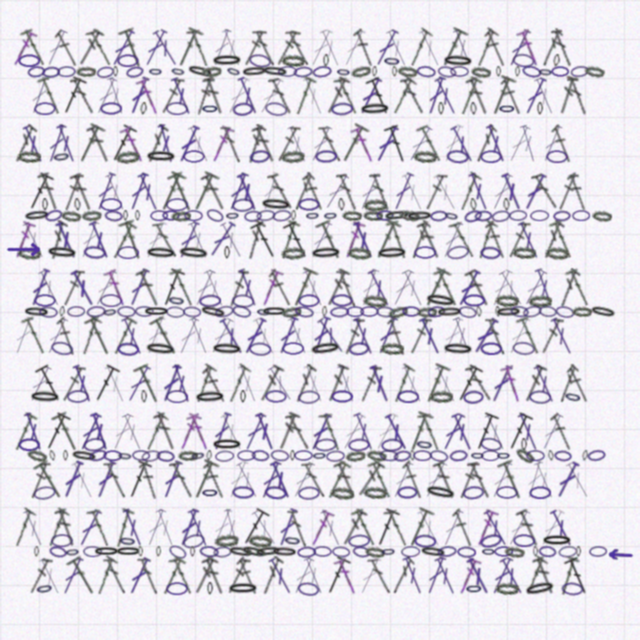chain: (523, 579, 557, 598), (424, 483, 457, 502), (424, 292, 457, 309), (309, 340, 342, 357), (177, 245, 210, 261), (144, 341, 177, 357), (260, 197, 292, 212), (46, 245, 78, 260), (186, 63, 214, 80), (442, 54, 474, 68), (359, 102, 391, 116), (145, 246, 177, 260), (310, 246, 342, 260), (376, 246, 408, 260), (199, 304, 227, 320), (589, 304, 617, 320), (211, 342, 243, 356), (442, 342, 474, 356), (29, 390, 61, 404), (194, 390, 226, 404), (240, 544, 268, 560), (182, 532, 206, 550), (479, 532, 503, 550), (514, 446, 536, 465), (211, 54, 243, 67), (145, 150, 177, 163), (211, 438, 243, 451), (541, 534, 573, 547), (227, 582, 259, 595), (446, 244, 470, 261), (50, 340, 74, 357), (479, 436, 503, 453), (115, 149, 140, 165), (70, 449, 98, 463), (227, 545, 255, 559), (419, 545, 447, 559), (248, 53, 272, 69), (264, 101, 288, 117), (167, 543, 188, 561), (280, 149, 305, 164), (214, 533, 239, 548), (33, 485, 56, 501), (297, 581, 320, 597), (261, 65, 289, 78), (23, 209, 51, 222), (383, 209, 411, 222), (254, 545, 282, 558), (387, 304, 409, 320), (241, 65, 268, 78), (512, 53, 535, 68), (446, 149, 469, 164), (83, 245, 106, 260), (512, 341, 535, 356), (83, 437, 106, 452), (264, 485, 287, 500), (462, 485, 485, 500), (205, 207, 225, 224), (363, 198, 387, 212), (17, 246, 41, 260), (281, 246, 305, 260), (347, 246, 371, 260), (545, 246, 569, 260), (363, 294, 387, 308), (528, 294, 552, 308), (330, 486, 354, 500), (248, 534, 272, 548), (350, 64, 372, 79), (249, 149, 271, 164), (348, 341, 370, 356), (26, 448, 48, 463), (406, 210, 433, 222), (23, 306, 50, 318), (436, 306, 463, 318), (495, 306, 522, 318), (271, 546, 298, 558), (314, 438, 337, 452), (561, 582, 584, 596), (463, 208, 483, 224), (563, 389, 583, 405), (521, 64, 542, 79), (214, 304, 235, 319), (231, 304, 252, 319), (522, 304, 543, 319), (281, 54, 305, 67), (17, 150, 41, 163), (413, 150, 437, 163), (512, 246, 536, 259), (495, 294, 519, 307), (380, 342, 404, 355), (429, 390, 453, 403), (363, 486, 387, 499), (495, 582, 519, 595), (232, 102, 254, 116), (331, 102, 353, 116), (232, 198, 254, 212), (199, 294, 221, 308), (232, 294, 254, 308), (117, 342, 139, 356), (249, 342, 271, 356), (298, 390, 320, 404), (529, 390, 551, 404), (348, 438, 370, 452), (381, 438, 403, 452), (298, 486, 320, 500), (348, 534, 370, 548), (414, 534, 436, 548), (44, 208, 64, 223), (88, 448, 108, 463), (143, 306, 170, 317), (261, 306, 288, 317), (93, 546, 120, 557), (115, 546, 142, 557), (480, 246, 501, 260), (281, 305, 302, 319), (463, 390, 484, 404), (345, 449, 366, 463), (18, 54, 40, 67), (117, 54, 139, 67), (34, 102, 56, 115), (100, 102, 122, 115), (166, 102, 188, 115), (183, 150, 205, 163), (315, 150, 337, 163), (480, 150, 502, 163), (546, 150, 568, 163), (100, 198, 122, 211), (166, 198, 188, 211), (298, 198, 320, 211), (117, 246, 139, 259), (414, 246, 436, 259), (34, 294, 56, 307), (100, 294, 122, 307), (298, 294, 320, 307), (331, 294, 353, 307), (463, 294, 485, 307), (282, 342, 304, 355), (480, 342, 502, 355), (67, 390, 89, 403), (166, 390, 188, 403), (265, 390, 287, 403), (331, 390, 353, 403), (397, 390, 419, 403), (18, 438, 40, 451), (232, 486, 254, 499), (496, 486, 518, 499), (529, 486, 551, 499), (51, 534, 73, 547), (513, 534, 535, 547), (166, 582, 188, 595), (52, 149, 71, 164), (167, 293, 186, 308), (415, 437, 434, 452), (283, 533, 302, 548), (35, 581, 54, 596), (125, 65, 145, 79), (437, 65, 457, 79), (491, 209, 511, 223), (294, 305, 314, 319), (555, 305, 575, 319), (141, 449, 161, 463), (429, 449, 449, 463), (48, 545, 68, 559), (201, 65, 222, 78), (397, 65, 418, 78), (584, 65, 605, 78), (81, 209, 102, 222), (399, 209, 420, 222), (366, 449, 387, 462), (397, 486, 418, 499), (96, 65, 115, 79), (458, 305, 477, 319), (393, 449, 412, 463), (118, 534, 137, 548), (352, 545, 371, 559), (312, 65, 332, 78), (416, 65, 436, 78), (570, 65, 590, 78), (256, 209, 276, 222), (272, 209, 292, 222), (86, 305, 106, 318), (270, 449, 290, 462), (379, 449, 399, 462), (199, 545, 219, 558), (437, 545, 457, 558), (558, 545, 578, 558), (225, 64, 242, 79), (383, 54, 401, 68), (504, 546, 525, 558), (27, 65, 46, 78), (427, 305, 446, 318), (510, 305, 529, 318), (538, 305, 557, 318), (251, 449, 270, 462), (449, 449, 468, 462), (587, 449, 606, 462), (538, 545, 557, 558), (293, 66, 313, 78), (471, 66, 491, 78), (61, 210, 81, 222), (171, 210, 191, 222), (592, 210, 612, 222), (417, 306, 437, 318), (365, 546, 385, 558), (443, 209, 460, 223), (201, 102, 219, 115), (498, 102, 516, 115), (201, 486, 219, 499), (465, 582, 483, 595), (104, 210, 123, 222), (474, 210, 493, 222), (39, 306, 58, 318), (166, 306, 185, 318), (330, 306, 349, 318), (376, 306, 395, 318), (156, 450, 175, 462), (215, 450, 234, 462), (326, 450, 345, 462), (213, 546, 232, 558), (297, 546, 316, 558), (457, 546, 476, 558), (76, 66, 96, 77), (342, 210, 362, 221), (363, 210, 383, 221), (572, 306, 592, 317), (178, 450, 198, 461), (42, 66, 60, 78), (244, 210, 262, 222), (430, 210, 448, 222), (553, 210, 571, 222), (183, 306, 201, 318), (554, 450, 572, 462), (332, 546, 350, 558), (57, 66, 76, 77), (278, 66, 297, 77), (450, 66, 469, 77), (184, 210, 203, 221), (530, 210, 549, 221), (117, 306, 136, 317), (135, 306, 154, 317), (360, 306, 379, 317), (103, 450, 122, 461), (237, 450, 256, 461), (294, 450, 313, 461), (413, 450, 432, 461), (481, 450, 500, 461), (526, 450, 545, 461), (83, 546, 102, 557), (313, 546, 332, 557), (401, 546, 420, 557), (494, 546, 513, 557), (170, 65, 186, 78), (190, 449, 206, 462), (551, 66, 569, 77), (150, 210, 168, 221), (162, 210, 180, 221), (376, 210, 394, 221), (509, 210, 527, 221), (572, 210, 590, 221), (67, 306, 85, 317), (346, 306, 364, 317), (402, 306, 420, 317), (132, 450, 150, 461), (589, 546, 607, 557), (102, 306, 118, 318), (117, 450, 133, 462), (336, 66, 351, 78), (538, 66, 553, 78), (256, 306, 271, 318), (65, 546, 80, 558), (148, 66, 163, 77), (225, 210, 240, 221), (305, 210, 320, 221), (323, 210, 338, 221), (312, 450, 327, 461), (470, 450, 485, 461), (496, 450, 511, 461), (381, 546, 396, 557), (481, 546, 496, 557), (553, 54, 560, 67), (140, 102, 147, 115), (470, 102, 477, 115), (74, 198, 81, 211), (338, 198, 345, 211), (470, 198, 477, 211), (503, 198, 510, 211), (323, 54, 329, 67), (438, 102, 444, 115), (537, 102, 543, 115), (42, 198, 48, 211), (224, 246, 230, 259), (141, 390, 147, 403), (240, 390, 246, 403), (521, 438, 527, 451), (207, 582, 213, 595), (49, 450, 56, 461), (59, 306, 65, 317), (476, 306, 482, 317), (495, 306, 501, 317), (206, 450, 212, 461), (548, 450, 554, 461), (582, 450, 588, 461), (113, 66, 118, 77), (372, 66, 377, 77), (392, 66, 397, 77), (496, 66, 501, 77), (515, 66, 520, 77), (123, 210, 128, 221), (135, 210, 140, 221), (291, 210, 296, 221), (322, 306, 327, 317), (63, 450, 68, 461), (290, 450, 295, 461), (410, 450, 415, 461), (34, 546, 39, 557), (138, 546, 143, 557), (156, 546, 161, 557), (190, 546, 195, 557), (533, 546, 538, 557), (576, 546, 581, 557)
double: (33, 459, 67, 501), (66, 555, 100, 597), (337, 123, 370, 165), (149, 315, 182, 357), (238, 507, 271, 548), (437, 27, 469, 69), (74, 123, 106, 165), (249, 219, 281, 261), (420, 267, 452, 309), (51, 411, 83, 453), (34, 363, 66, 404), (173, 27, 204, 69), (107, 123, 138, 165), (24, 171, 55, 213), (156, 171, 187, 213), (189, 171, 220, 213), (282, 219, 313, 261), (315, 219, 346, 261), (371, 219, 402, 261), (288, 267, 319, 309), (84, 315, 115, 357), (90, 363, 121, 405), (133, 363, 164, 405), (453, 363, 484, 405), (41, 411, 72, 453), (189, 459, 220, 501), (404, 507, 435, 549), (58, 75, 88, 117), (487, 75, 517, 117), (167, 171, 197, 213), (421, 363, 451, 405), (504, 411, 534, 453), (497, 459, 527, 501), (322, 555, 352, 597), (563, 555, 593, 597), (206, 220, 238, 259), (315, 316, 347, 355), (354, 460, 386, 499), (150, 28, 181, 68), (321, 172, 352, 212), (107, 220, 138, 260), (496, 268, 527, 308), (470, 316, 501, 356), (85, 27, 115, 68), (388, 75, 418, 116), (448, 219, 478, 260), (108, 315, 138, 356), (322, 459, 352, 500), (157, 555, 187, 596), (118, 27, 147, 69), (365, 75, 394, 117), (118, 219, 147, 261), (405, 411, 434, 453), (471, 411, 500, 453), (124, 459, 153, 501), (372, 507, 401, 549), (265, 364, 296, 403), (249, 508, 280, 547), (75, 28, 105, 68), (256, 76, 286, 116), (405, 124, 435, 164), (68, 268, 98, 308), (520, 268, 550, 308), (217, 316, 247, 356), (563, 460, 593, 500), (481, 508, 511, 548), (537, 508, 567, 548), (497, 556, 527, 596), (19, 27, 48, 68), (405, 27, 434, 68), (415, 123, 444, 164), (9, 411, 38, 452), (141, 411, 170, 452), (383, 123, 411, 165), (158, 267, 186, 309), (9, 28, 38, 68), (108, 28, 137, 68), (141, 28, 170, 68), (372, 28, 401, 68), (372, 124, 401, 164), (448, 124, 477, 164), (200, 172, 229, 212), (431, 172, 460, 212), (217, 220, 246, 260), (35, 268, 64, 308), (91, 268, 120, 308), (365, 268, 394, 308), (454, 268, 483, 308), (464, 268, 493, 308), (207, 316, 236, 356), (240, 316, 269, 356), (250, 316, 279, 356), (124, 364, 153, 404), (256, 364, 285, 404), (339, 412, 368, 452), (372, 412, 401, 452), (382, 412, 411, 452), (233, 460, 262, 500), (289, 460, 318, 500), (421, 460, 450, 500), (553, 460, 582, 500), (75, 508, 104, 548), (339, 508, 368, 548), (415, 508, 444, 548), (504, 508, 533, 548), (547, 508, 576, 548), (266, 556, 295, 596), (464, 556, 493, 596), (472, 27, 500, 68), (333, 75, 361, 116), (455, 75, 483, 116), (455, 171, 483, 212), (168, 267, 196, 308), (432, 267, 460, 308), (564, 267, 592, 308), (20, 315, 48, 356), (224, 363, 252, 404), (366, 459, 394, 500), (43, 507, 71, 548), (350, 507, 378, 548), (383, 507, 411, 548), (168, 555, 196, 596), (521, 555, 549, 596), (307, 28, 335, 68), (340, 28, 368, 68), (383, 28, 411, 68), (416, 28, 444, 68), (505, 28, 533, 68), (92, 76, 120, 116), (224, 76, 252, 116), (323, 76, 351, 116), (356, 76, 384, 116), (432, 76, 460, 116), (521, 76, 549, 116), (119, 124, 147, 164), (185, 124, 213, 164), (251, 124, 279, 164), (307, 124, 335, 164), (505, 124, 533, 164), (399, 172, 427, 212), (488, 172, 516, 212), (521, 172, 549, 212), (20, 220, 48, 260), (307, 220, 335, 260), (416, 220, 444, 260), (515, 220, 543, 260), (135, 268, 163, 308), (323, 268, 351, 308), (389, 268, 417, 308), (399, 268, 427, 308), (43, 316, 71, 356), (416, 316, 444, 356), (505, 316, 533, 356), (548, 316, 576, 356), (26, 364, 54, 404), (432, 364, 460, 404), (76, 412, 104, 452), (218, 412, 246, 452), (241, 412, 269, 452), (439, 412, 467, 452), (538, 412, 566, 452), (69, 460, 97, 500), (307, 508, 335, 548), (317, 508, 345, 548), (515, 508, 543, 548), (36, 556, 64, 596), (125, 556, 153, 596), (191, 556, 219, 596), (356, 556, 384, 596), (488, 556, 516, 596), (36, 75, 63, 116), (290, 75, 317, 116), (548, 219, 575, 260), (515, 315, 542, 356), (191, 363, 218, 404), (389, 363, 416, 404), (10, 507, 37, 548), (86, 507, 113, 548), (92, 555, 119, 596), (10, 124, 38, 163), (531, 172, 559, 211), (465, 364, 493, 403), (43, 28, 70, 68), (317, 28, 344, 68), (135, 76, 162, 116), (168, 76, 195, 116), (300, 76, 327, 116), (465, 76, 492, 116), (531, 76, 558, 116), (20, 124, 47, 164), (86, 124, 113, 164), (175, 124, 202, 164), (208, 124, 235, 164), (284, 124, 311, 164), (350, 124, 377, 164), (69, 172, 96, 212), (102, 172, 129, 212), (135, 172, 162, 212), (234, 172, 261, 212), (356, 172, 383, 212), (53, 220, 80, 260), (86, 220, 113, 260), (142, 220, 169, 260), (175, 220, 202, 260), (185, 220, 212, 260), (350, 220, 377, 260), (439, 220, 466, 260), (191, 268, 218, 308), (201, 268, 228, 308), (300, 268, 327, 308), (488, 268, 515, 308), (119, 316, 146, 356), (175, 316, 202, 356), (350, 316, 377, 356), (439, 316, 466, 356), (102, 364, 129, 404), (399, 364, 426, 404), (488, 364, 515, 404), (521, 364, 548, 404), (531, 364, 558, 404), (109, 412, 136, 452), (119, 412, 146, 452), (307, 412, 334, 452), (449, 412, 476, 452), (482, 412, 509, 452), (515, 412, 542, 452), (257, 460, 284, 500), (267, 460, 294, 500), (333, 460, 360, 500), (389, 460, 416, 500), (432, 460, 459, 500), (488, 460, 515, 500), (531, 460, 558, 500), (20, 508, 47, 548), (185, 508, 212, 548), (439, 508, 466, 548), (59, 556, 86, 596), (201, 556, 228, 596), (290, 556, 317, 596), (333, 556, 360, 596), (432, 556, 459, 596), (455, 556, 482, 596), (186, 27, 212, 68), (219, 27, 245, 68), (450, 27, 476, 68), (516, 27, 542, 68), (126, 75, 152, 116), (235, 75, 261, 116), (440, 123, 466, 164), (483, 123, 509, 164), (539, 123, 565, 164), (225, 171, 251, 212), (390, 171, 416, 212), (466, 171, 492, 212), (499, 171, 525, 212), (275, 219, 301, 260), (473, 219, 499, 260), (27, 267, 53, 308), (103, 267, 129, 308), (126, 267, 152, 308), (235, 267, 261, 308), (258, 267, 284, 308), (77, 315, 103, 356), (186, 315, 212, 356), (275, 315, 301, 356), (285, 315, 311, 356), (374, 315, 400, 356), (235, 363, 261, 404), (301, 363, 327, 404), (324, 363, 350, 404), (367, 363, 393, 404), (153, 411, 179, 452), (176, 411, 202, 452), (186, 411, 212, 452), (252, 411, 278, 452), (275, 411, 301, 452), (318, 411, 344, 452), (351, 411, 377, 452), (417, 411, 443, 452), (60, 459, 86, 500), (93, 459, 119, 500), (159, 459, 185, 500), (225, 459, 251, 500), (120, 507, 146, 548), (143, 507, 169, 548), (176, 507, 202, 548), (209, 507, 235, 548), (473, 507, 499, 548), (301, 555, 327, 596), (400, 555, 426, 596), (423, 555, 449, 596), (532, 555, 558, 596), (274, 28, 301, 67), (267, 172, 294, 211), (152, 220, 179, 259), (267, 268, 294, 307), (389, 556, 416, 595), (555, 268, 581, 308), (285, 412, 311, 452), (53, 29, 80, 67), (201, 365, 228, 403), (209, 27, 234, 68), (27, 75, 52, 116), (202, 75, 227, 116), (44, 123, 69, 164), (54, 123, 79, 164), (37, 171, 62, 212), (93, 171, 118, 212), (126, 171, 151, 212), (11, 219, 36, 260), (77, 219, 102, 260), (341, 219, 366, 260), (357, 267, 382, 308), (532, 267, 557, 308), (11, 315, 36, 356), (143, 315, 168, 356), (450, 315, 475, 356), (70, 363, 95, 404), (159, 363, 184, 404), (334, 363, 359, 404), (21, 411, 46, 452), (87, 411, 112, 452), (54, 507, 79, 548), (110, 507, 135, 548), (153, 507, 178, 548), (275, 507, 300, 548), (555, 555, 580, 596), (285, 28, 311, 67), (159, 76, 185, 115), (143, 124, 169, 163), (275, 124, 301, 163), (539, 220, 565, 259), (60, 364, 86, 403), (291, 364, 317, 403), (565, 364, 591, 403), (301, 460, 327, 499), (27, 556, 53, 595), (225, 556, 251, 595), (258, 556, 284, 595), (367, 556, 393, 595), (70, 76, 95, 116), (268, 76, 293, 116), (400, 76, 425, 116), (169, 460, 194, 500), (104, 75, 128, 116), (424, 75, 448, 116), (385, 219, 409, 260), (309, 315, 333, 356), (170, 363, 194, 404), (500, 363, 524, 404), (210, 411, 234, 452), (242, 28, 267, 67), (252, 28, 277, 67), (483, 28, 508, 67), (539, 28, 564, 67), (499, 76, 524, 115), (318, 124, 343, 163), (473, 124, 498, 163), (291, 172, 316, 211), (301, 172, 326, 211), (423, 172, 448, 211), (506, 220, 531, 259), (539, 316, 564, 355), (549, 412, 574, 451), (103, 460, 128, 499), (202, 460, 227, 499), (103, 556, 128, 595), (235, 556, 260, 595), (243, 124, 267, 164), (467, 460, 491, 500), (556, 75, 579, 116), (517, 123, 540, 164), (259, 171, 282, 212), (523, 459, 546, 500), (352, 28, 376, 67), (550, 124, 574, 163), (408, 220, 432, 259), (484, 220, 508, 259), (61, 268, 85, 307), (408, 316, 432, 355), (358, 364, 382, 403), (556, 364, 580, 403), (401, 460, 425, 499), (451, 508, 475, 547), (220, 124, 243, 164), (243, 220, 266, 260), (55, 316, 78, 356), (342, 316, 365, 356), (28, 460, 51, 500), (457, 460, 480, 500), (155, 123, 177, 164), (221, 507, 243, 548), (556, 172, 579, 211), (566, 172, 589, 211), (137, 556, 160, 595), (551, 28, 573, 68), (62, 172, 84, 212), (336, 172, 358, 212), (369, 172, 391, 212), (46, 220, 68, 260), (227, 268, 249, 308), (336, 268, 358, 308), (386, 316, 408, 356), (485, 316, 507, 356), (138, 460, 160, 500), (287, 508, 309, 548), (194, 76, 215, 116), (567, 76, 588, 116)
noise: (6, 242, 42, 256), (606, 549, 633, 560)
